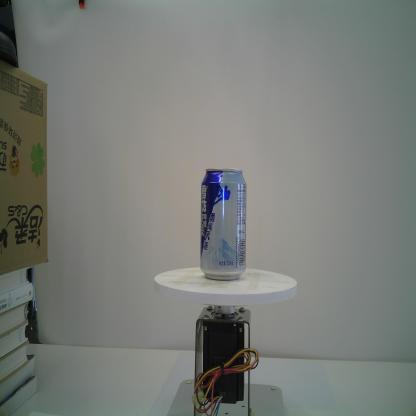Alcohol: (198, 166, 248, 282)
